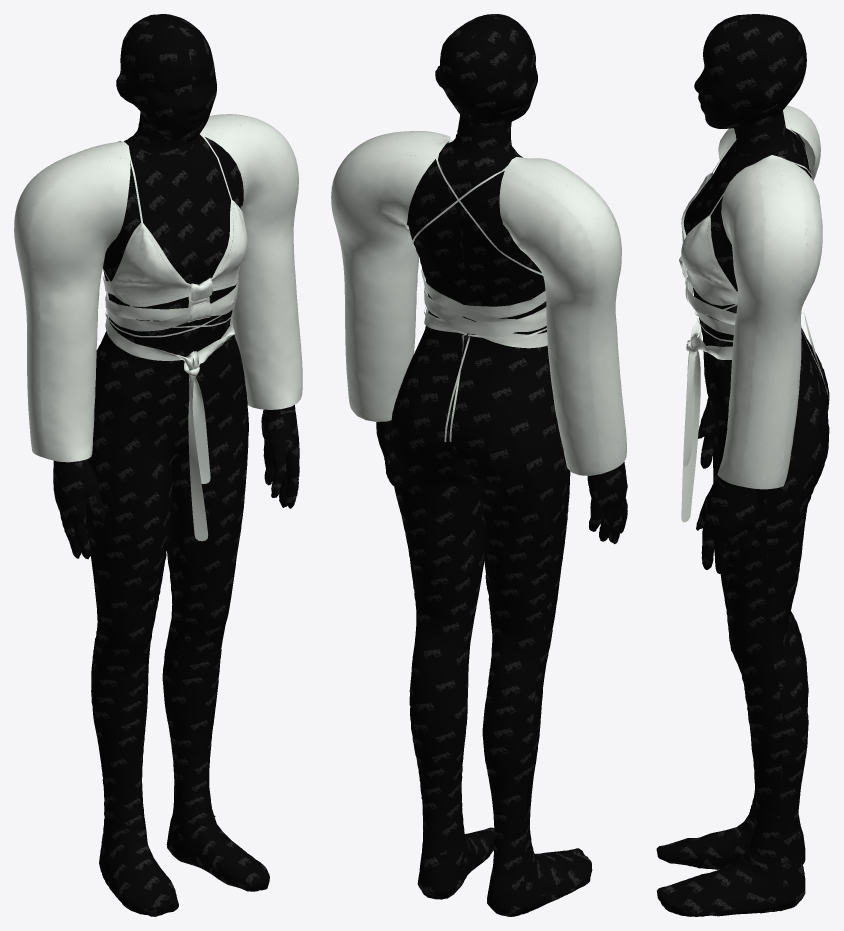
Rendered from vaqar.glb.
The picture shows the model from 3 angles, left to right: view 1: azimuth 30°, elevation 25°; view 2: azimuth 150°, elevation 25°; view 3: azimuth 270°, elevation 25°; orthographic projection.
Parts seen in each view (by area): view 1: Woman Bodysuit AR, VAQAR garment test ar 2; view 2: Woman Bodysuit AR, VAQAR garment test ar 2; view 3: Woman Bodysuit AR, VAQAR garment test ar 2.
Part boxes in pixels (<box>): Woman Bodysuit AR: <box>53,14,299,916</box>; VAQAR garment test ar 2: <box>14,114,302,541</box>; Woman Bodysuit AR: <box>376,14,627,916</box>; VAQAR garment test ar 2: <box>331,131,626,475</box>; Woman Bodysuit AR: <box>656,14,829,916</box>; VAQAR garment test ar 2: <box>679,105,829,522</box>.
Size of the model in its own units: 0.5932 by 1.77 by 0.3195.
Materials: 2 (2 with a texture image).
